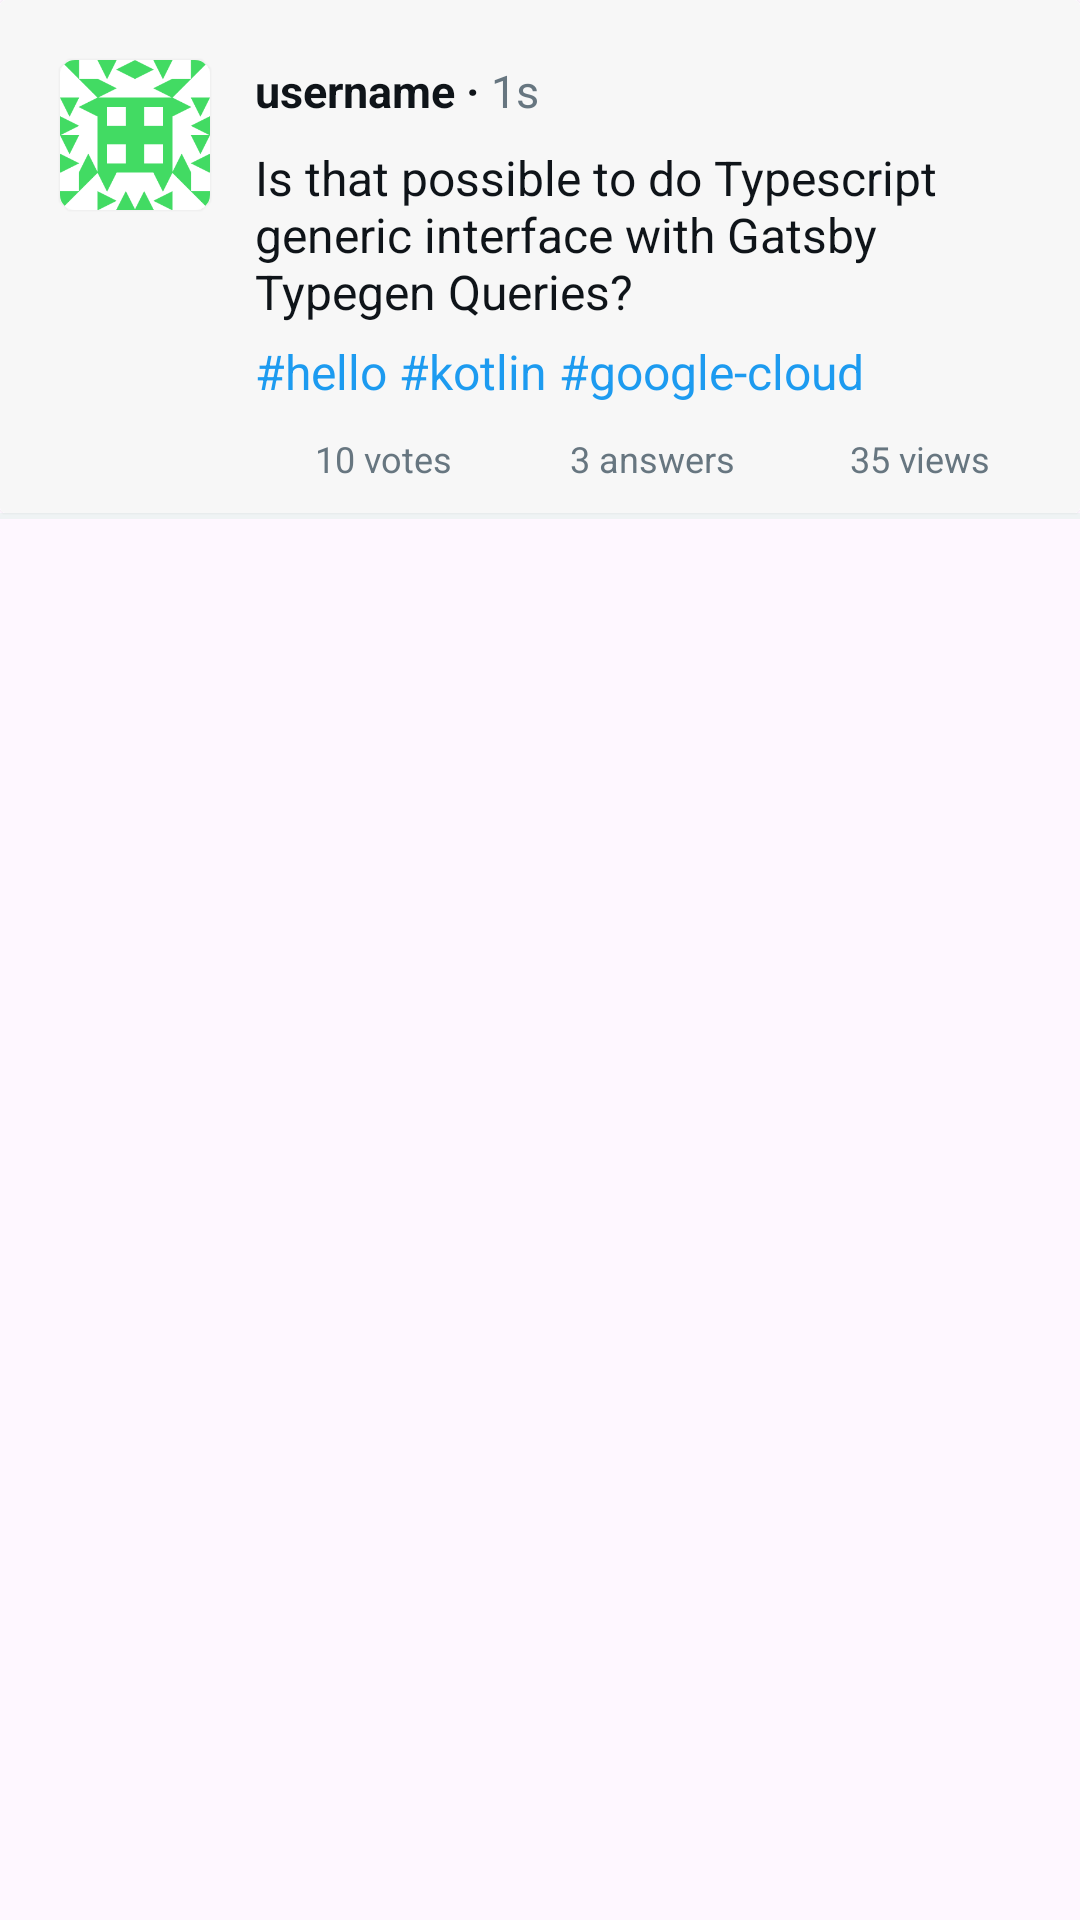

Screen size 1080px x 1920px. Icon name, then its box in pixels as [x1, y1, x2, y2]:
profile pic: [60, 60, 210, 210]
